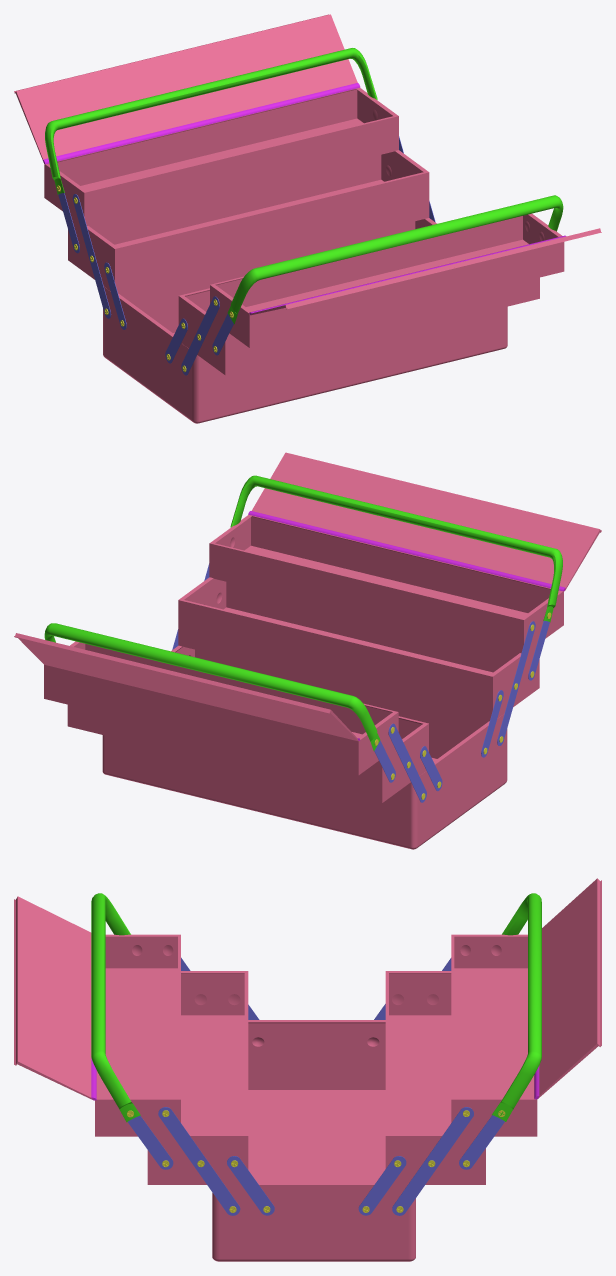
Rendered from _oxClean.fbx.
The picture shows the model from 3 angles, top to bottom: view 1: azimuth 30°, elevation 25°; view 2: azimuth 150°, elevation 25°; view 3: azimuth 270°, elevation 25°; orthographic projection. The views are drawn at different scales.
Parts seen in each view (by area): view 1: Cube.057, Plane.003, Cylinder.058, Cube.050; view 2: Cube.057, Plane.003, Cylinder.058, Cube.050; view 3: Cube.057, Plane.003, Cylinder.058, Cylinder.056.
Boxes of the visible parts, x1,y1,x2,y2 form: Cube.057: [14, 14, 601, 423]; Plane.003: [45, 48, 563, 324]; Cylinder.058: [58, 136, 435, 375]; Cube.050: [43, 83, 566, 314]; Cube.057: [14, 452, 601, 849]; Plane.003: [44, 475, 562, 750]; Cylinder.058: [172, 563, 549, 802]; Cube.050: [248, 511, 565, 740]; Cube.057: [14, 878, 601, 1261]; Plane.003: [91, 893, 541, 1122]; Cylinder.058: [128, 957, 504, 1215]; Cylinder.056: [127, 1110, 505, 1212].
Size of the model in its own units: 110 by 66.9 by 162.
